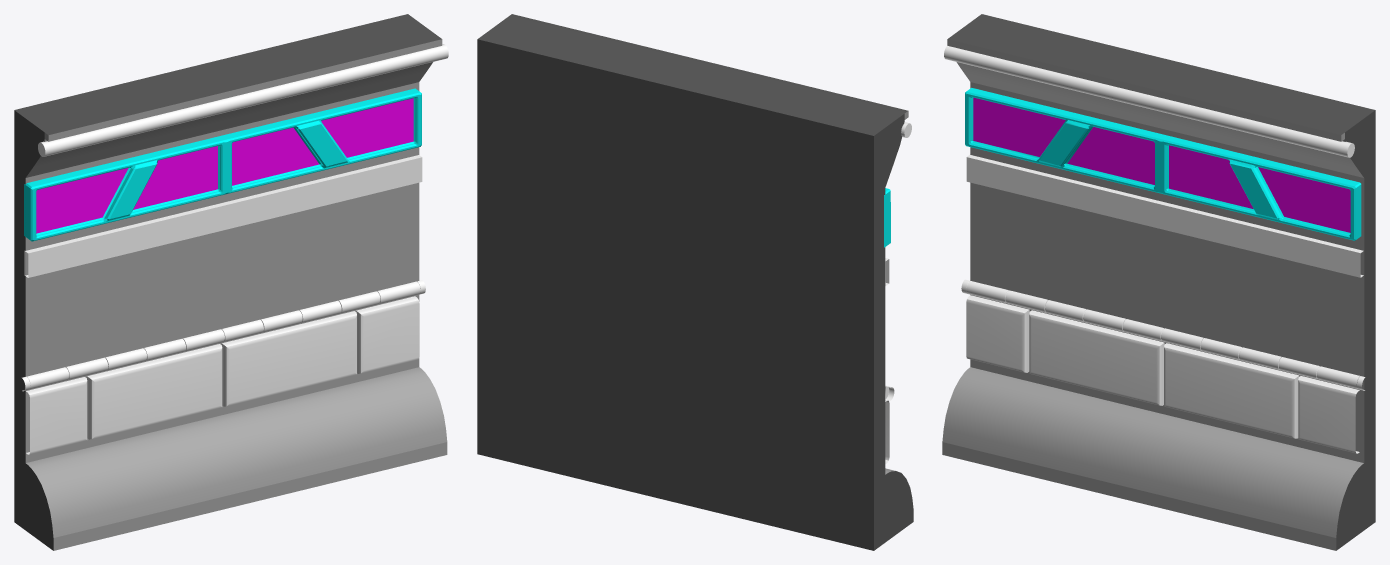
Rendered from Base_Wall_Type_1_high.fbx.
The picture shows the model from 3 angles, left to right: view 1: azimuth 30°, elevation 25°; view 2: azimuth 150°, elevation 25°; view 3: azimuth 330°, elevation 25°; orthographic projection.
Visible parts, largest first — view 1: polySurface256, polySurface154, polySurface150, polySurface147, pCylinder47, polySurface14; view 2: polySurface256; view 3: polySurface256, polySurface154, polySurface150, polySurface147, pCylinder47, polySurface14.
Boxes of the visible parts, x1,y1,x2,y2 form: polySurface256: [14, 14, 447, 550]; polySurface154: [26, 296, 419, 454]; polySurface150: [24, 88, 421, 241]; polySurface147: [24, 155, 422, 277]; pCylinder47: [38, 44, 448, 156]; polySurface14: [22, 280, 425, 391]; polySurface256: [477, 14, 913, 550]; polySurface256: [942, 14, 1375, 550]; polySurface154: [966, 295, 1359, 453]; polySurface150: [965, 87, 1361, 240]; polySurface147: [966, 154, 1363, 277]; pCylinder47: [944, 46, 1354, 157]; polySurface14: [961, 279, 1365, 390].
Bounding box in the file's own units: 288 × 280 × 48.49.
